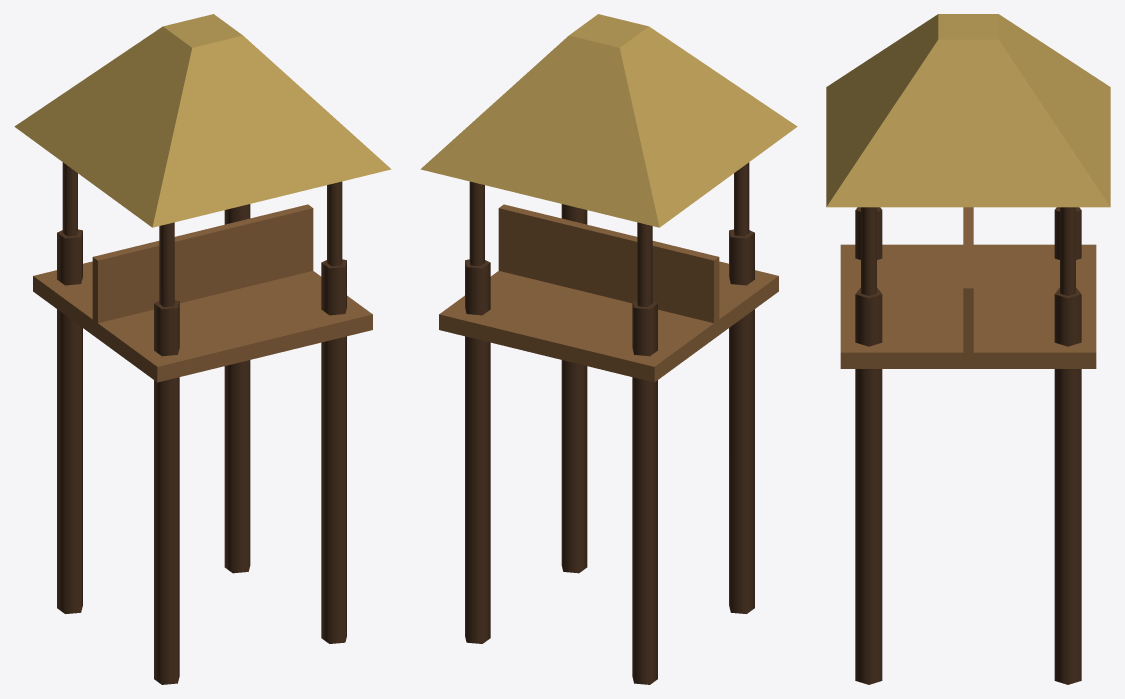
The model's file is bld_special_tower_a01_lod2.glb.
3 renders of one model, left to right at view 1: azimuth 30°, elevation 25°; view 2: azimuth 150°, elevation 25°; view 3: azimuth 270°, elevation 25°, orthographic. The views are drawn at different scales.
Visible parts, largest first — view 1: body; view 2: body; view 3: body.
Part boxes in pixels (left/top/right/bottom): body: left=14, top=14, right=391, bottom=684; body: left=420, top=14, right=797, bottom=684; body: left=826, top=14, right=1110, bottom=684.
Bounding box in the file's own units: 4 × 9.47 × 4.
